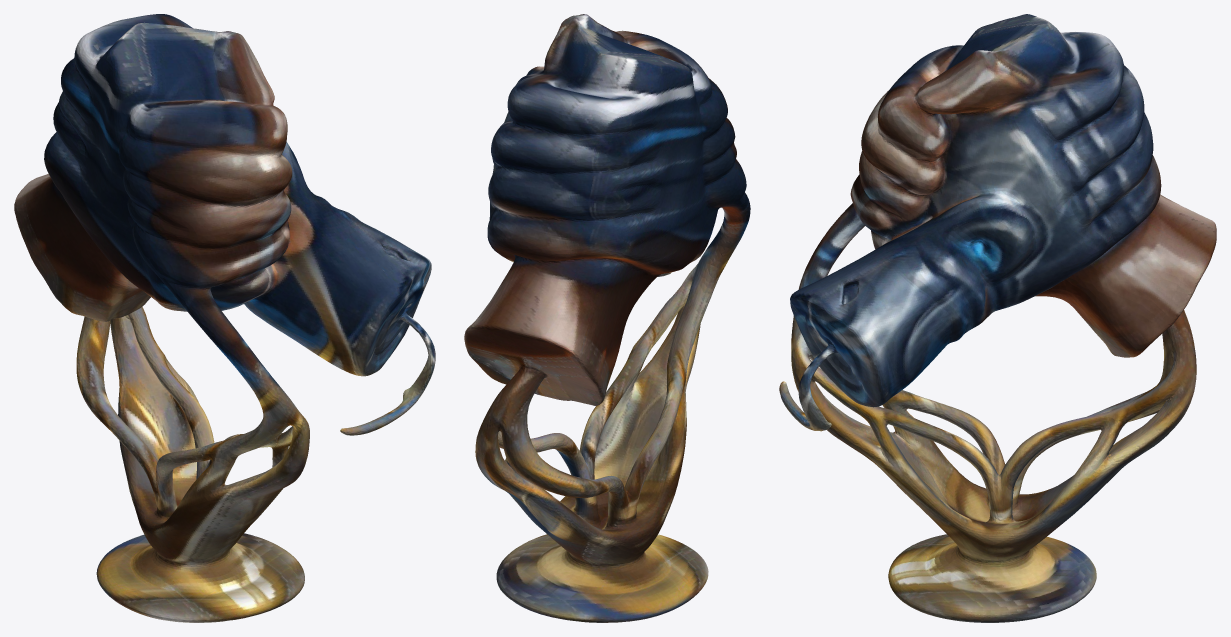
The model's file is organic_machine_interface_sculpture.glb.
3 renders of one model, left to right at view 1: azimuth 30°, elevation 25°; view 2: azimuth 150°, elevation 25°; view 3: azimuth 270°, elevation 25°, orthographic. The views are drawn at different scales.
Bounding box in the file's own units: 1.01 × 2 × 1.46.
Materials: 1 (1 with a texture image).
